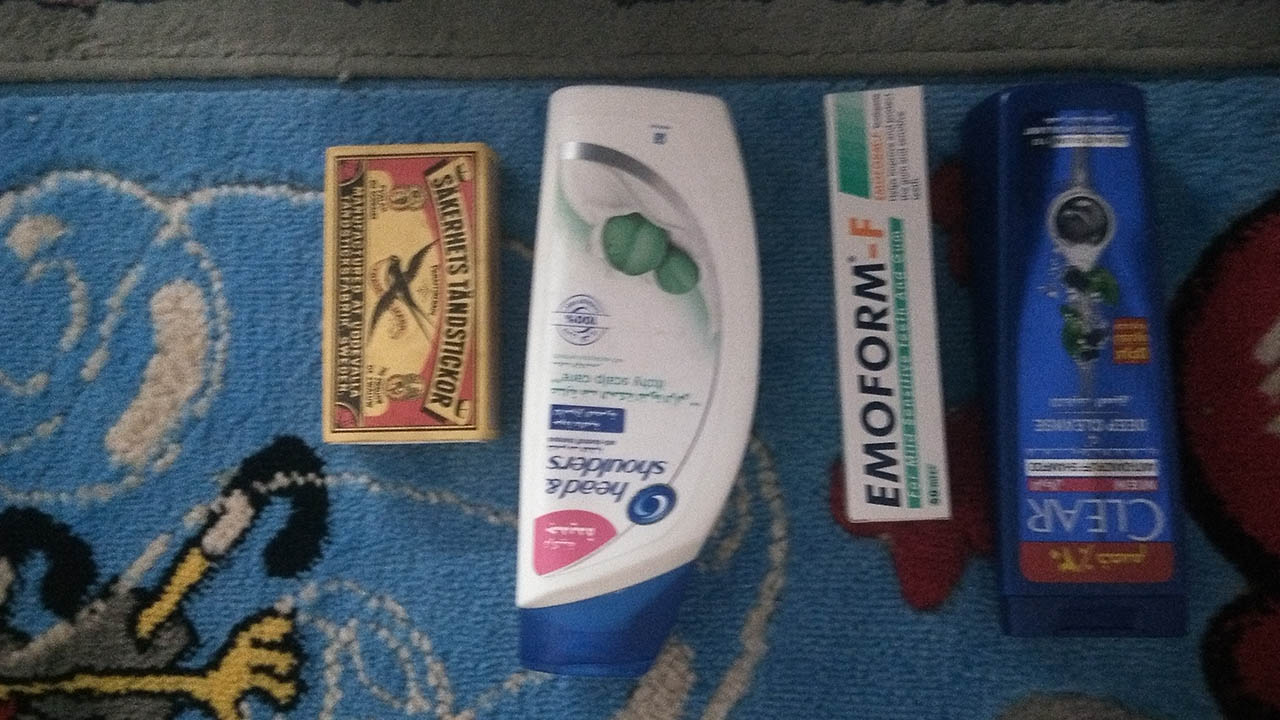Shampoo-Clear 4.7$: (987, 74, 1204, 633)
Toothpaste-F 1.5$: (815, 82, 954, 521)
match-sticks .90$: (310, 137, 500, 465)
shampoo-green 4.5$: (514, 69, 751, 667)
